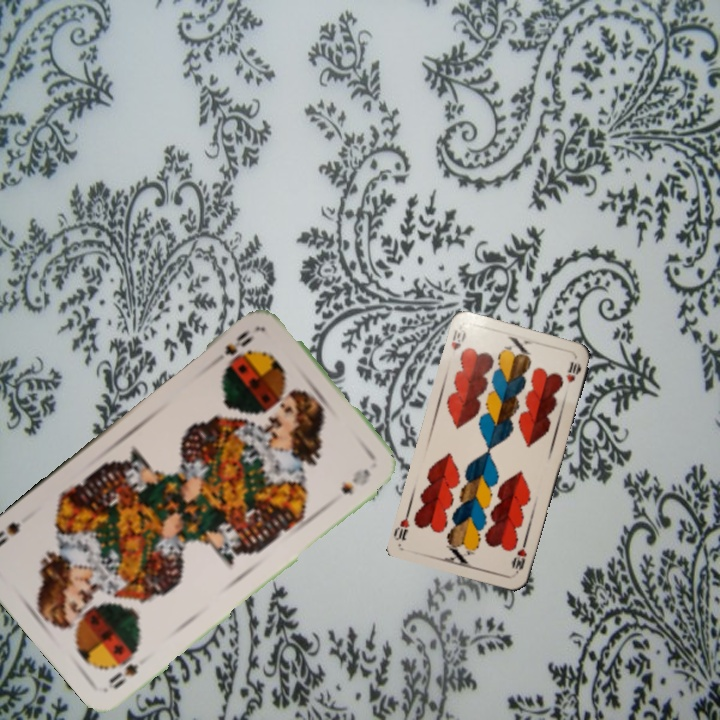H10: (508, 537, 529, 576), (447, 322, 469, 353)
SO: (209, 326, 257, 367), (105, 659, 141, 692)
